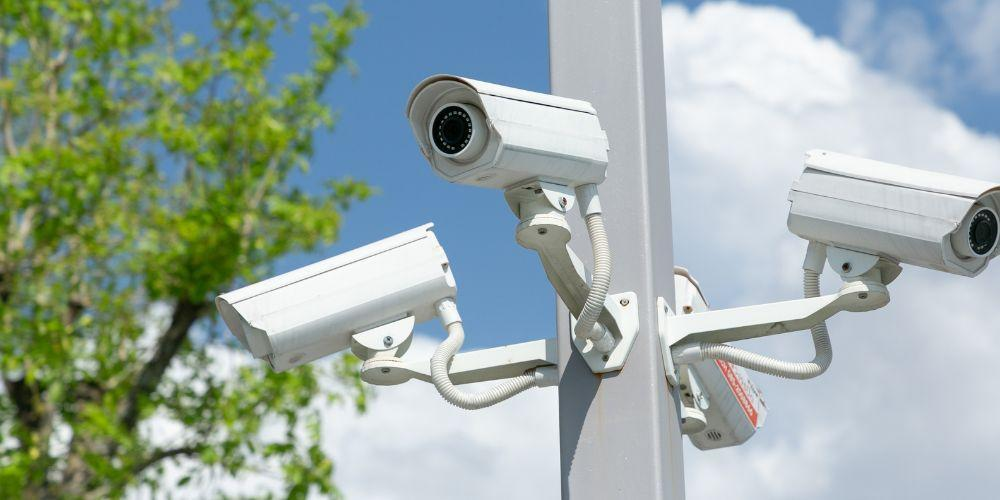------------------------------: (204, 229, 489, 391), (764, 136, 1000, 312), (396, 71, 629, 208)
